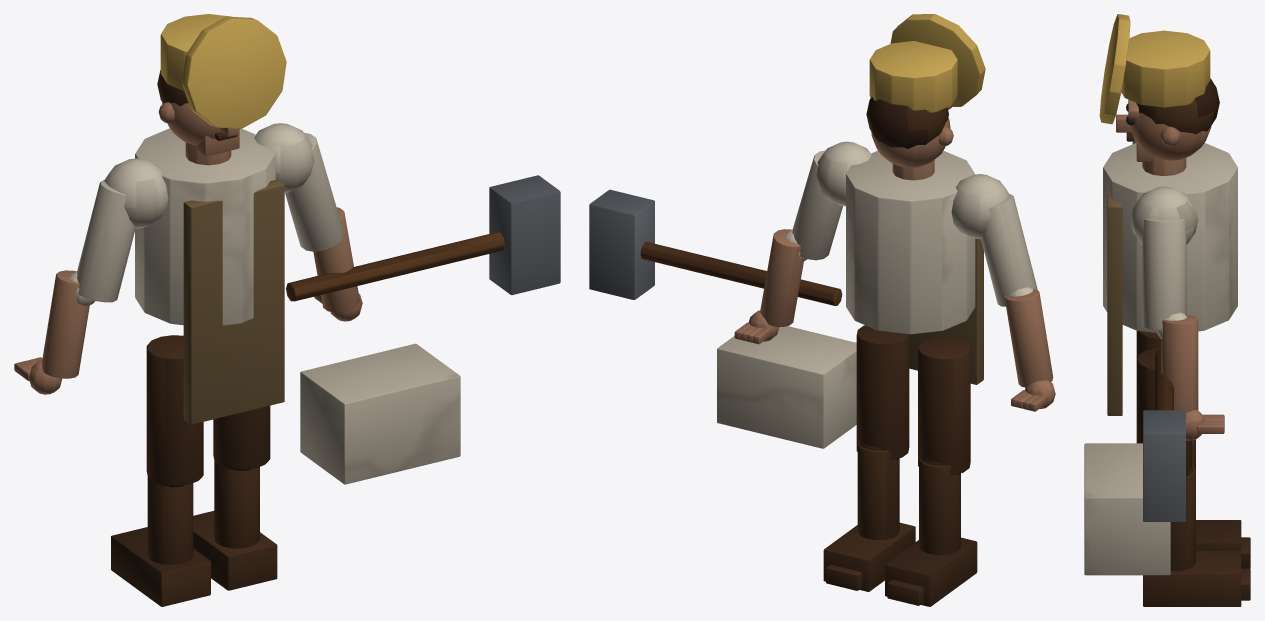
File: unit_church_mason.fbx
3 views of the same model, side by side, from view 1: azimuth 30°, elevation 25°; view 2: azimuth 150°, elevation 25°; view 3: azimuth 270°, elevation 25° (orthographic). The views are drawn at different scales.
Parts seen in each view (by area): view 1: unit_church_mason; view 2: unit_church_mason; view 3: unit_church_mason.
Boxes of the visible parts, left/top/right/bottom form: unit_church_mason: left=14, top=14, right=560, bottom=606; unit_church_mason: left=589, top=14, right=1055, bottom=606; unit_church_mason: left=1084, top=14, right=1250, bottom=606.
Bounding box in the file's own units: 1.82 × 2.01 × 0.54.
